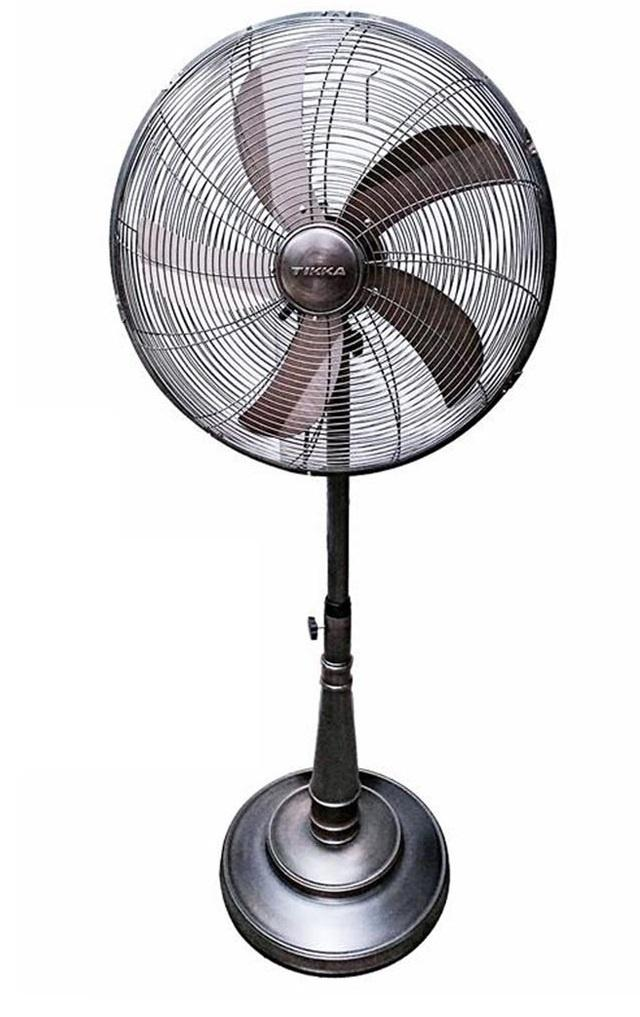fan: (60, 0, 607, 1017)
